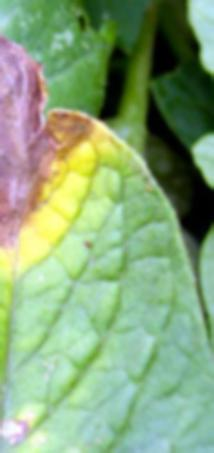Tomato Early blight leaf: (0, 0, 168, 453)
